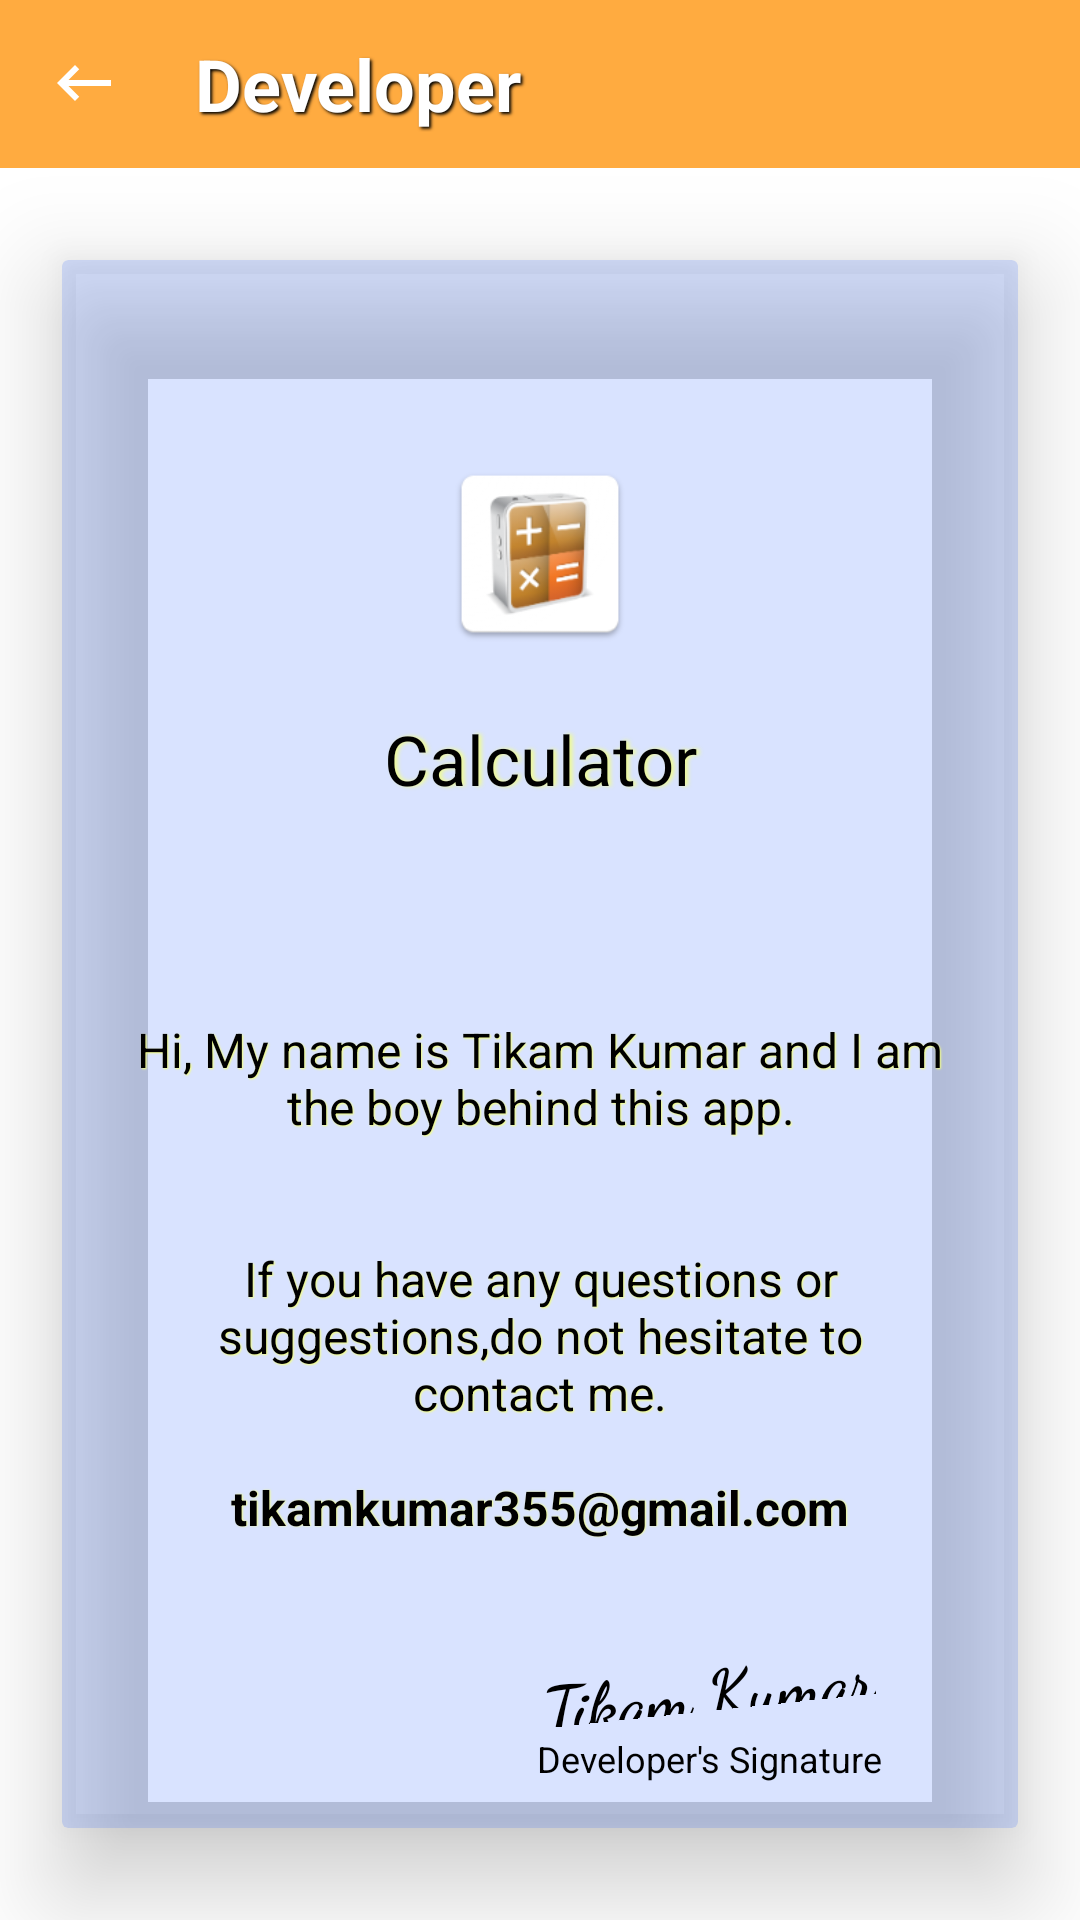

Where to tap for icons on this 1080×1920 app screen, as [x,y]:
Back: [84,83]
